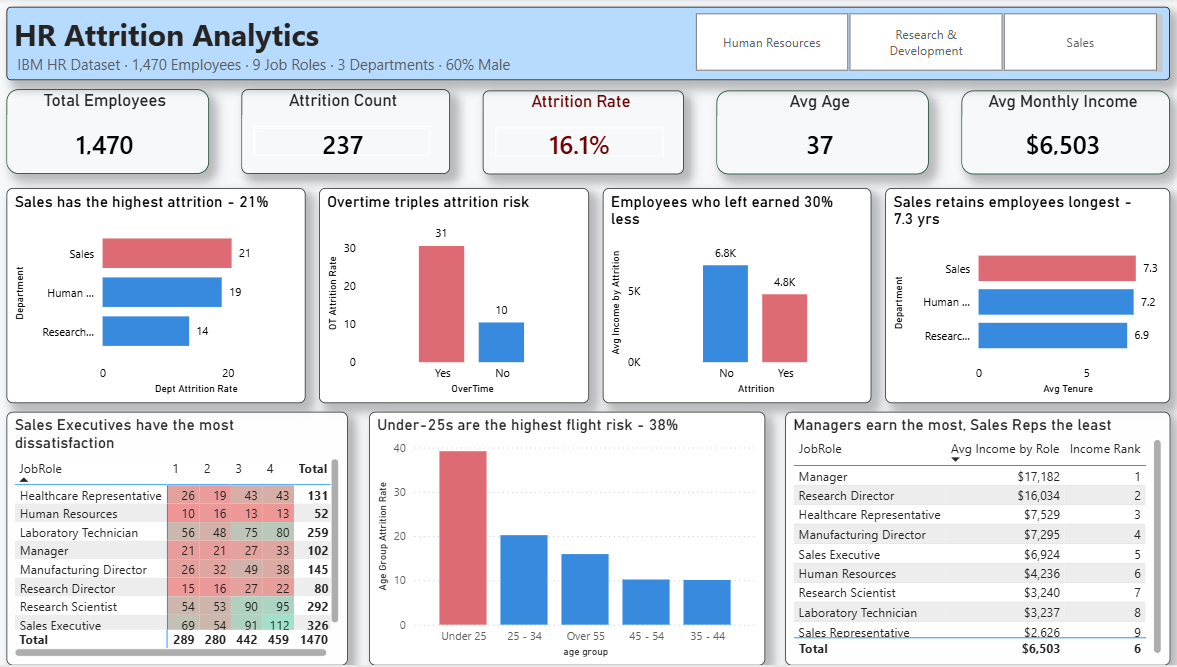

This screenshot's page, from the dashboard's own definition file:
{"tool":"powerbi","page":{"name":"Page 1","canvas":[1280,720],"ordinal":0},"visuals":[{"type":"cardVisual","title":"Total Employees","fields":{"Data":["hr_attrition.Total Employees"]},"box":[13.5,98.4,218.3,91],"z":0},{"type":"cardVisual","title":"Attrition Count","fields":{"Data":["hr_attrition.Attrition Count"]},"box":[266.8,98.4,225.1,91],"z":1000},{"type":"cardVisual","title":"Attrition Rate","fields":{"Data":["hr_attrition.Attrition Rate"]},"box":[526.9,99.7,217,90],"z":2000},{"type":"cardVisual","title":"Avg Monthly Income","fields":{"Data":["hr_attrition.Avg Income"]},"box":[1043.1,99.7,225.1,90],"z":3000},{"type":"cardVisual","title":"Avg Age","fields":{"Data":["hr_attrition.Avg Age"]},"box":[778.9,99.7,229.1,90],"z":4000},{"type":"clusteredBarChart","title":"Sales has the highest attrition - 21%","fields":{"Category":["hr_attrition.Department"],"Y":["hr_attrition.Dept Attrition Rate"]},"box":[13.5,204.8,322.1,231.8],"z":5000},{"type":"columnChart","title":"Overtime triples attrition risk","fields":{"Category":["hr_attrition.OverTime"],"Y":["hr_attrition.OT Attrition Rate"]},"box":[350.4,204.8,291.1,231.8],"z":6000},{"type":"columnChart","title":"Employees who left earned 30% less","fields":{"Category":["hr_attrition.Attrition"],"Y":["hr_attrition.Avg Income by Attrition"]},"box":[656.3,204.8,289.7,231.8],"z":7000},{"type":"clusteredBarChart","title":"Sales retains employees longest - 7.3 yrs","fields":{"Category":["hr_attrition.Department"],"Y":["hr_attrition.Avg Tenure"]},"box":[960.9,204.8,307.3,231.8],"z":8000},{"type":"pivotTable","title":"Sales Executives have the most dissatisfaction","fields":{"Rows":["hr_attrition.JobRole"],"Columns":["hr_attrition.JobSatisfaction"],"Values":["Sum(hr_attrition.EmployeeCount)"]},"box":[13.5,446.1,367.9,273.6],"z":9000},{"type":"columnChart","title":"Under-25s are the highest flight risk - 38%","fields":{"Category":["hr_attrition.age group"],"Y":["hr_attrition.Age Group Attrition Rate"]},"box":[404.3,446.1,427.2,273.6],"z":10000},{"type":"tableEx","title":"Managers earn the most, Sales Reps the least","fields":{"Values":["hr_attrition.JobRole","hr_attrition.Avg Income by Role","hr_attrition.Income Rank"]},"box":[853.1,446.1,415.1,273.6],"z":11000},{"type":"textbox","box":[13.5,9.4,1254.7,79.5],"z":12000},{"type":"slicer","fields":{"Values":["hr_attrition.Department"]},"box":[730.4,9.4,547,76],"z":13000}]}

Visuals, with their boxes in screenshot pixels (x1, y1, x2, y2), scaled from the page's 1280x720 canvas onto the 1177x667 screenshot:
"Total Employees" cardVisual: {"left": 12, "top": 91, "right": 213, "bottom": 175}
"Attrition Count" cardVisual: {"left": 245, "top": 91, "right": 452, "bottom": 175}
"Attrition Rate" cardVisual: {"left": 485, "top": 92, "right": 684, "bottom": 176}
"Avg Monthly Income" cardVisual: {"left": 959, "top": 92, "right": 1166, "bottom": 176}
"Avg Age" cardVisual: {"left": 716, "top": 92, "right": 927, "bottom": 176}
"Sales has the highest attrition - 21%" clusteredBarChart: {"left": 12, "top": 190, "right": 309, "bottom": 404}
"Overtime triples attrition risk" columnChart: {"left": 322, "top": 190, "right": 590, "bottom": 404}
"Employees who left earned 30% less" columnChart: {"left": 603, "top": 190, "right": 870, "bottom": 404}
"Sales retains employees longest - 7.3 yrs" clusteredBarChart: {"left": 884, "top": 190, "right": 1166, "bottom": 404}
"Sales Executives have the most dissatisfaction" pivotTable: {"left": 12, "top": 413, "right": 351, "bottom": 666}
"Under-25s are the highest flight risk - 38%" columnChart: {"left": 372, "top": 413, "right": 765, "bottom": 666}
"Managers earn the most, Sales Reps the least" tableEx: {"left": 784, "top": 413, "right": 1166, "bottom": 666}
textbox: {"left": 12, "top": 9, "right": 1166, "bottom": 82}
slicer - hr_attrition.Department: {"left": 672, "top": 9, "right": 1175, "bottom": 79}
